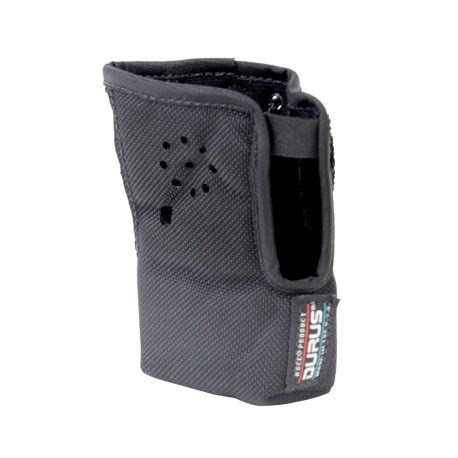nylon: (104, 59, 337, 406)
